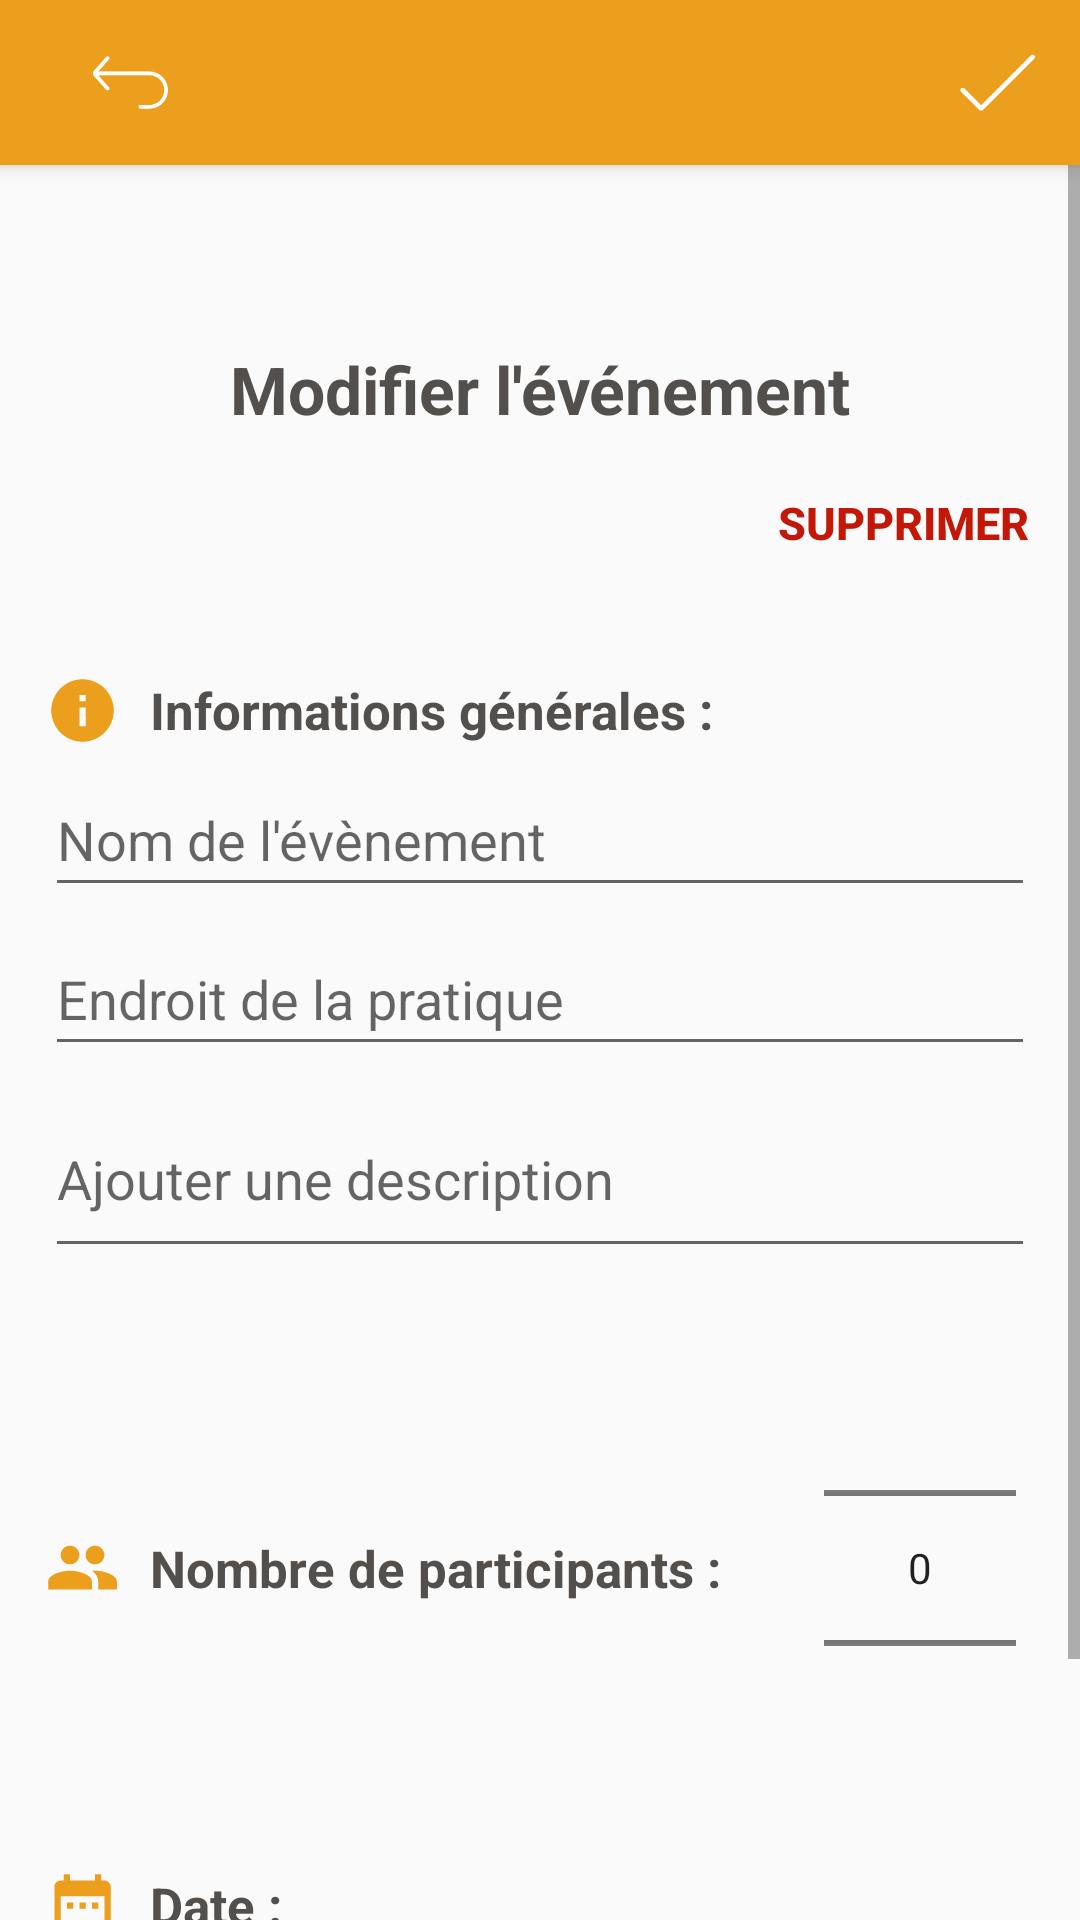

Icons on this 1080*1920 Android screen, each with the point to tap as point (x, y):
checked: point (997, 82)
returned: point (130, 82)
